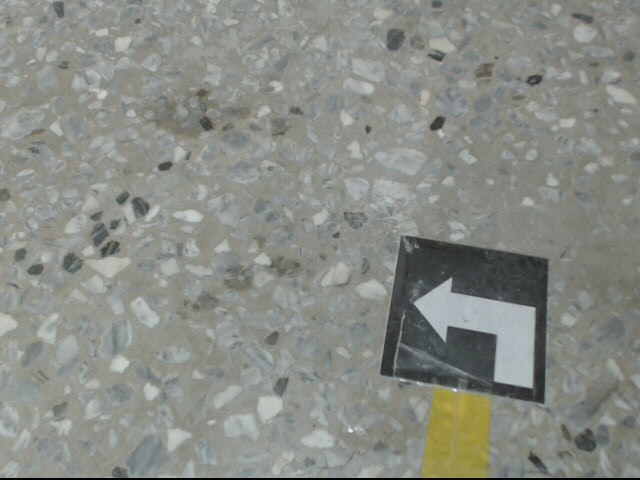left: (379, 232, 552, 405)
